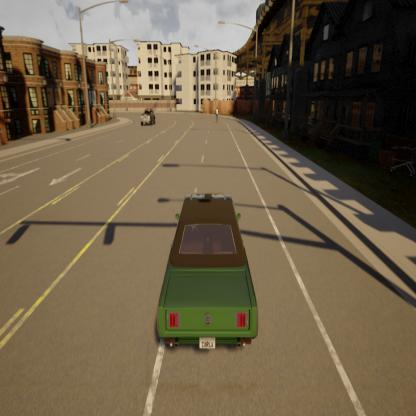Cars: (150, 169, 262, 385), (130, 96, 165, 136)
